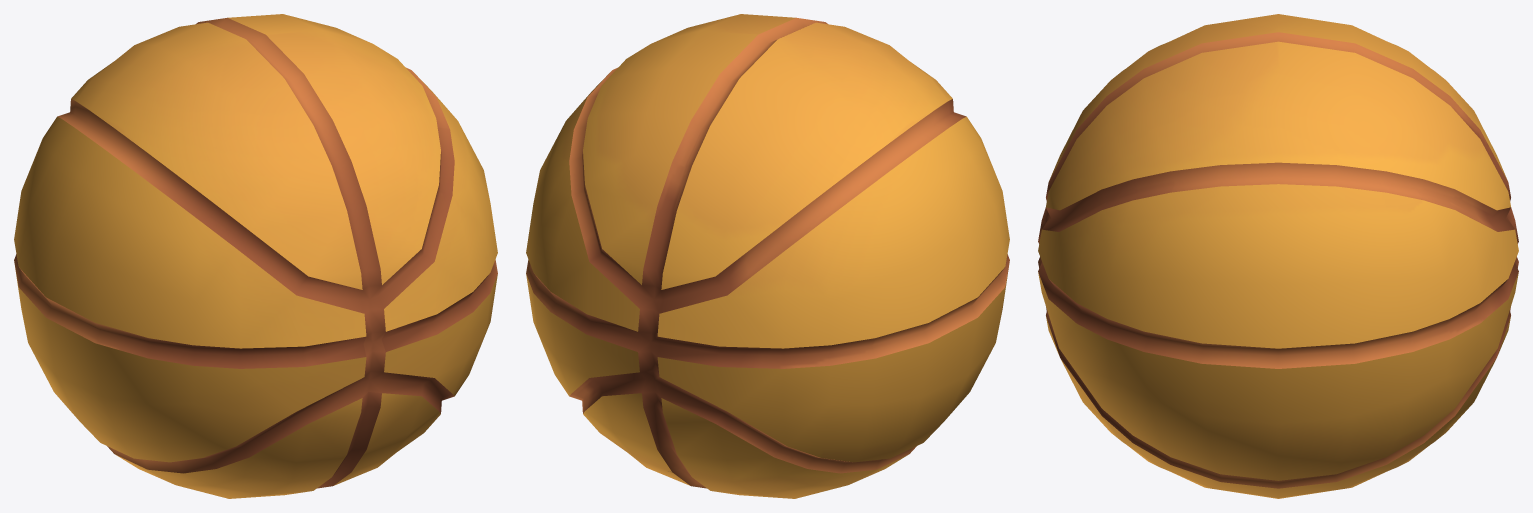
Rendered from basketball_ball.gltf.
3 renders of one model, left to right at view 1: azimuth 30°, elevation 25°; view 2: azimuth 150°, elevation 25°; view 3: azimuth 270°, elevation 25°, orthographic.
Parts seen in each view (by area): view 1: basketball_ball; view 2: basketball_ball; view 3: basketball_ball.
Part boxes in pixels (x1=…): basketball_ball: x1=14, y1=14, x2=497, y2=498; basketball_ball: x1=526, y1=14, x2=1009, y2=498; basketball_ball: x1=1038, y1=14, x2=1518, y2=498.
Size of the model in its own units: 0.6437 by 0.6437 by 0.6388.
Materials: 1 (1 with a texture image).
